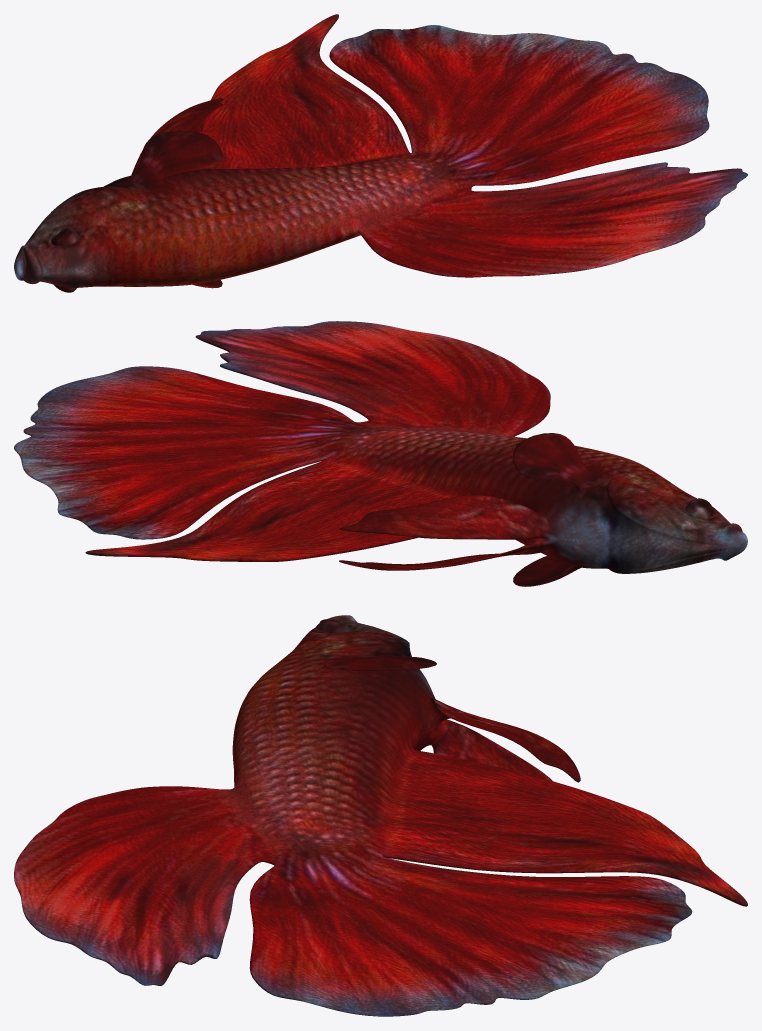
The model's file is 12995_BettaMale_v1.obj.
3 views of the same model, one above another, from view 1: azimuth 30°, elevation 25°; view 2: azimuth 150°, elevation 25°; view 3: azimuth 270°, elevation 25° (orthographic). The views are drawn at different scales.
Visible parts, largest first — view 1: 12995_BettaMale; view 2: 12995_BettaMale; view 3: 12995_BettaMale.
Part boxes in pixels (x1,y1,x2,y2): 12995_BettaMale: (14,14,747,292); 12995_BettaMale: (14,321,747,586); 12995_BettaMale: (14,615,747,1016).
Size of the model in its own units: 2.36 by 0.426 by 1.88.
Materials: 1 (1 with a texture image).
